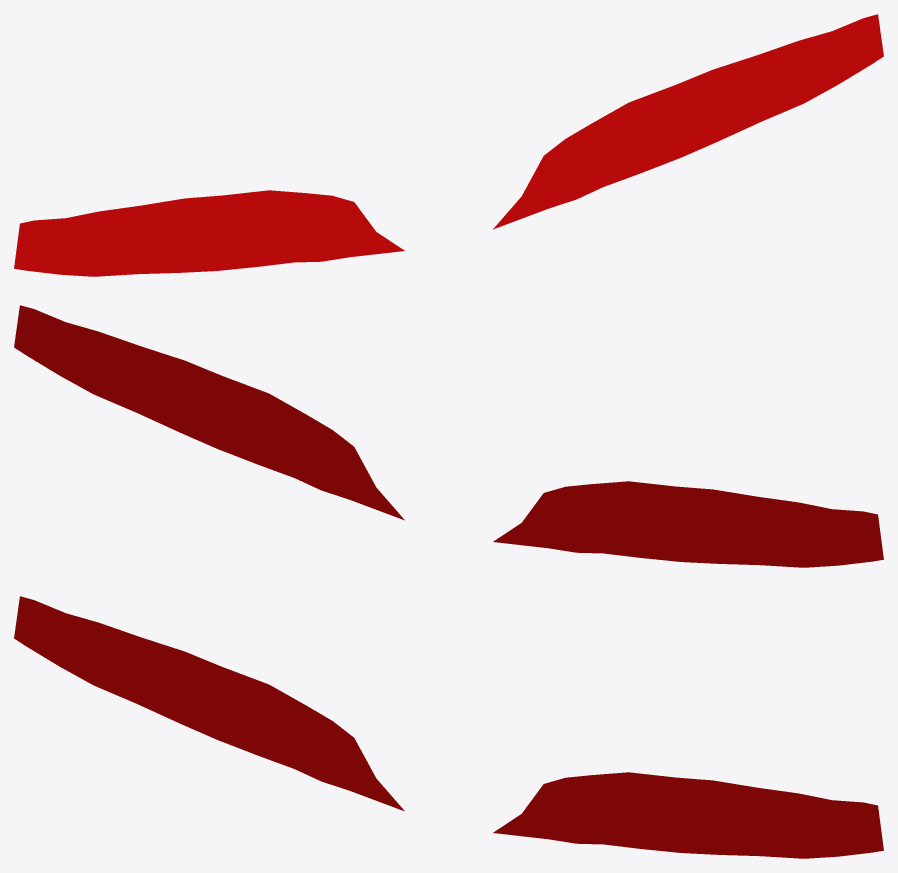
Rendered from frame21.fbx.
3 renders of one model, top to bottom at view 1: azimuth 30°, elevation 25°; view 2: azimuth 150°, elevation 25°; view 3: azimuth 330°, elevation 25°, orthographic.
Visible parts, largest first — view 1: MaterialLayer; view 2: MaterialLayer; view 3: MaterialLayer.
Part boxes in pixels (x1,y1,x2,y2): MaterialLayer: (14,14,883,276); MaterialLayer: (14,305,883,567); MaterialLayer: (14,596,883,858).
Size of the model in its own units: 1122 by 150 by 0.
